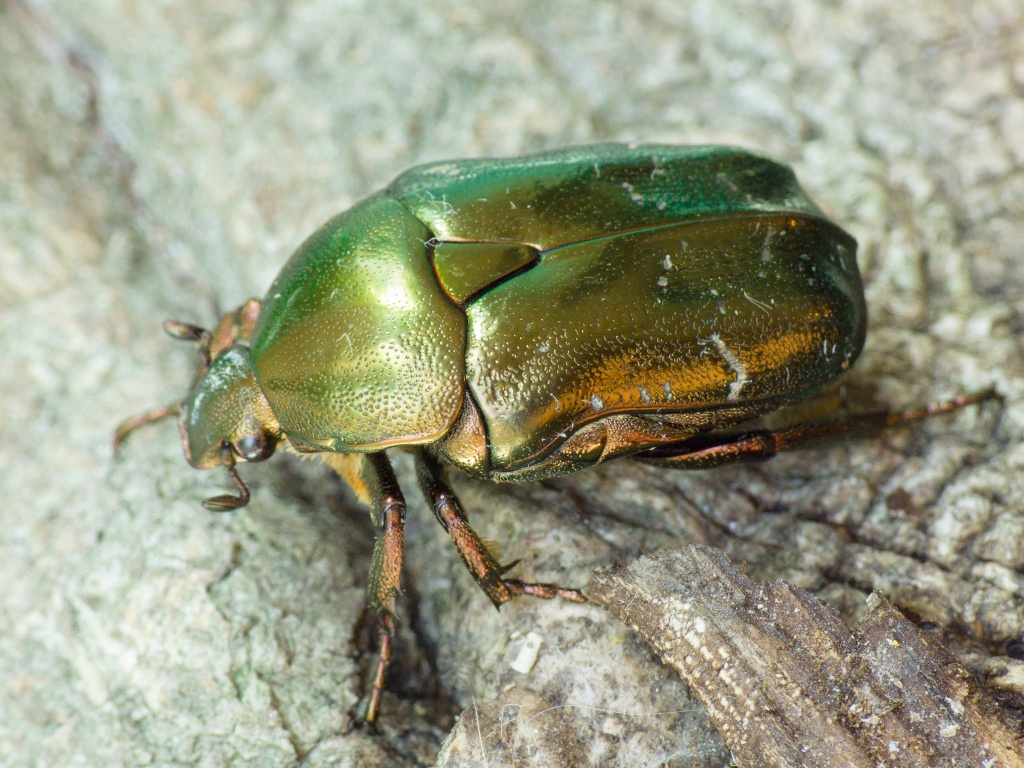Protaetia_fieberi: (98, 121, 1011, 728)
